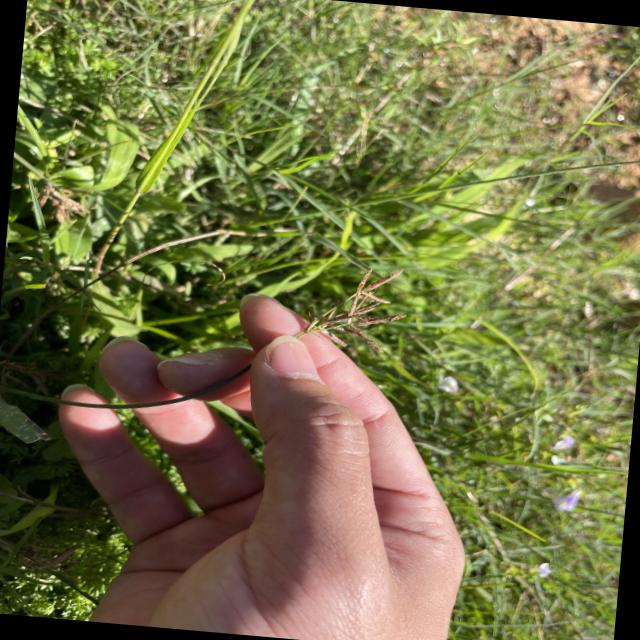cyperus: (286, 254, 418, 364)
